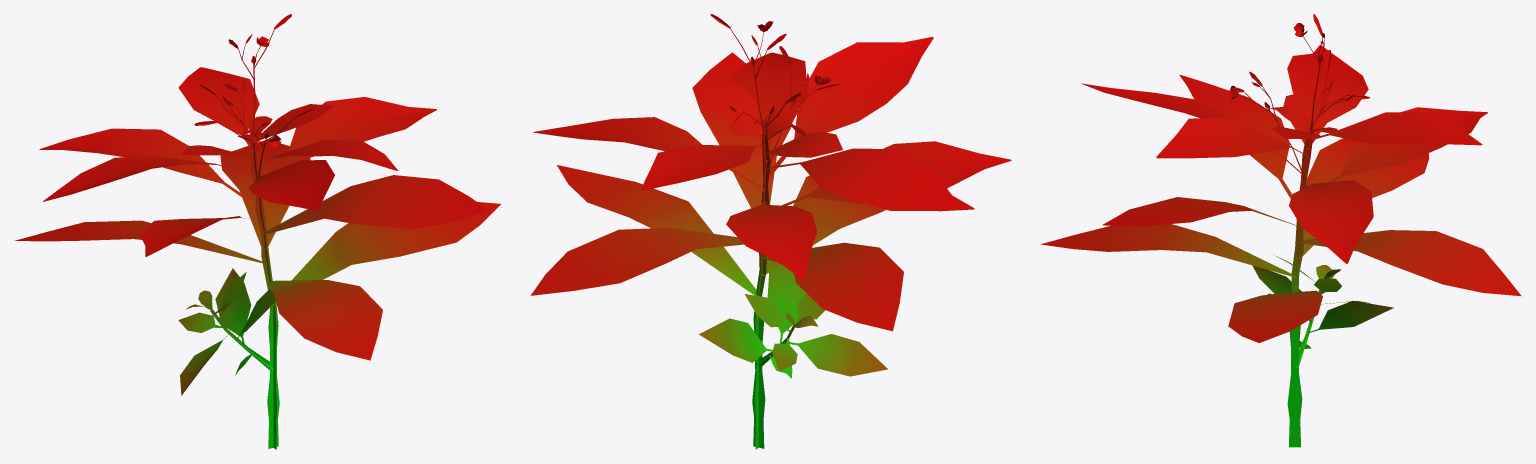
The model's file is Small Balsam_LOD2_Var3_xefmcgrqx.fbx.
The picture shows the model from 3 angles, left to right: view 1: azimuth 30°, elevation 25°; view 2: azimuth 150°, elevation 25°; view 3: azimuth 270°, elevation 25°; orthographic projection. The views are drawn at different scales.
Parts seen in each view (by area): view 1: _0k12_Var3_LOD2; view 2: _0k12_Var3_LOD2; view 3: _0k12_Var3_LOD2.
Part boxes in pixels (box(x1,y1,x2,y2)): _0k12_Var3_LOD2: box(14, 14, 500, 449); _0k12_Var3_LOD2: box(530, 14, 1011, 449); _0k12_Var3_LOD2: box(1041, 14, 1521, 447).
Bounding box in the file's own units: 48.6 × 45.09 × 46.64.
